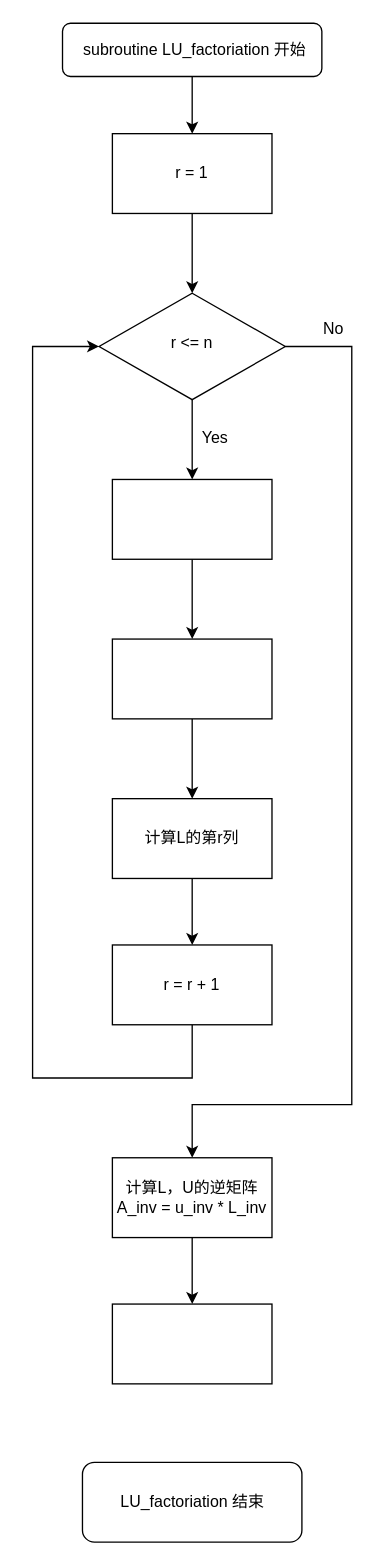
Image size: 386x1565. Some labels were removed from this diagram. The shapes that lost their labels are listed below. From the top down, each one's centre as x and y in pixels, then its label:
[191,518]: 从r到n行选取最大的主元，将其所在的行与第r行互换
[191,678]: 计算U的第r行
[191,1343]: 计算A的条件数
